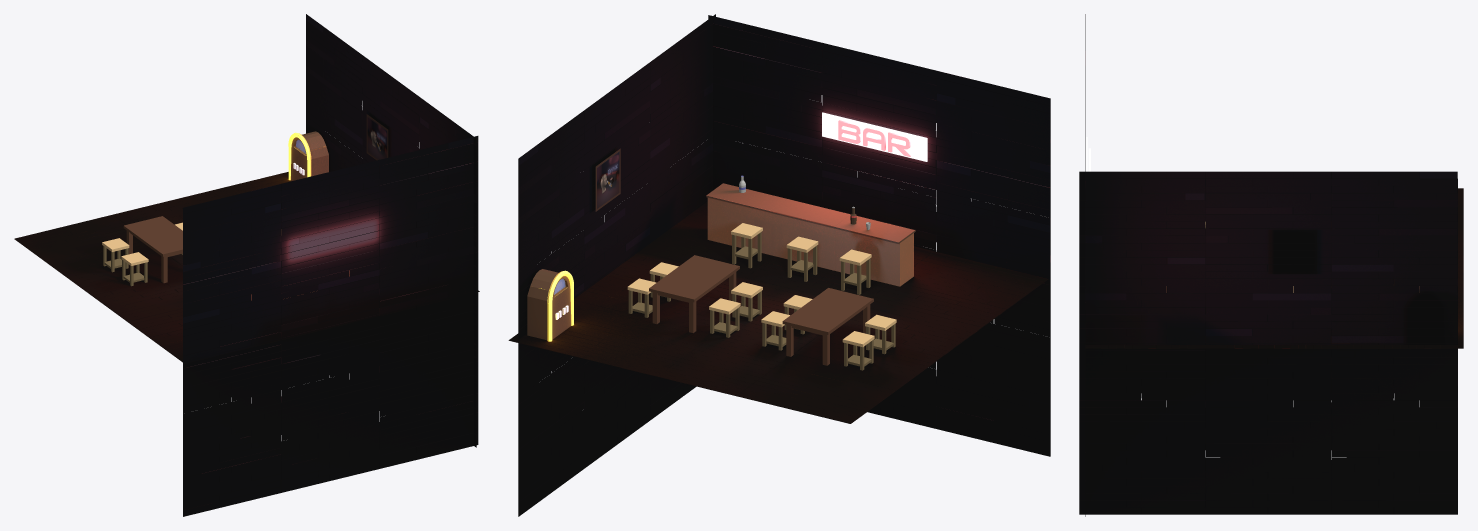
The model's file is bar.glb.
The picture shows the model from 3 angles, left to right: view 1: azimuth 30°, elevation 25°; view 2: azimuth 150°, elevation 25°; view 3: azimuth 270°, elevation 25°; orthographic projection. The views are drawn at different scales.
Visible parts, largest first — view 1: SM_Floor_3A.001, SM_Floor_3A.002, SM_Floor_3A, SM_Table_2B, SM_Jukebox_01, Plane, SM_Stool_1B.007, SM_Stool_1B.008; view 2: SM_Floor_3A.001, SM_Floor_3A.002, SM_Floor_3A, SM_Counter, SM_Table_1B, SM_Table_2B, SM_Jukebox_01, Cube, Plane, Text, SM_Stool_1B.006, SM_Stool_1B.005 (+7 smaller); view 3: SM_Floor_3A.002, SM_Floor_3A, SM_Floor_3A.001.
Part boxes in pixels (x1=…): SM_Floor_3A.001: x1=183, y1=136, x2=478, y2=516; SM_Floor_3A.002: x1=306, y1=14, x2=476, y2=447; SM_Floor_3A: x1=14, y1=172, x2=479, y2=363; SM_Table_2B: x1=123, y1=216, x2=182, y2=283; SM_Jukebox_01: x1=288, y1=131, x2=328, y2=180; Plane: x1=366, y1=114, x2=388, y2=160; SM_Stool_1B.007: x1=121, y1=252, x2=148, y2=286; SM_Stool_1B.008: x1=102, y1=238, x2=129, y2=272; SM_Floor_3A.001: x1=708, y1=15, x2=1050, y2=456; SM_Floor_3A.002: x1=518, y1=14, x2=715, y2=516; SM_Floor_3A: x1=508, y1=201, x2=1048, y2=423; SM_Counter: x1=706, y1=183, x2=915, y2=286; SM_Table_1B: x1=649, y1=255, x2=739, y2=332; SM_Table_2B: x1=782, y1=288, x2=873, y2=365; SM_Jukebox_01: x1=527, y1=269, x2=573, y2=341; Cube: x1=822, y1=112, x2=927, y2=161; Plane: x1=595, y1=148, x2=620, y2=211; Text: x1=838, y1=120, x2=910, y2=156; SM_Stool_1B.006: x1=731, y1=223, x2=762, y2=268; SM_Stool_1B.005: x1=786, y1=236, x2=818, y2=281; SM_Floor_3A.002: x1=1079, y1=171, x2=1457, y2=514; SM_Floor_3A: x1=1085, y1=188, x2=1463, y2=348; SM_Floor_3A.001: x1=1085, y1=14, x2=1085, y2=516.
Bounding box in the file's own units: 551 × 548 × 556.
Materials: 12 (4 with a texture image).
